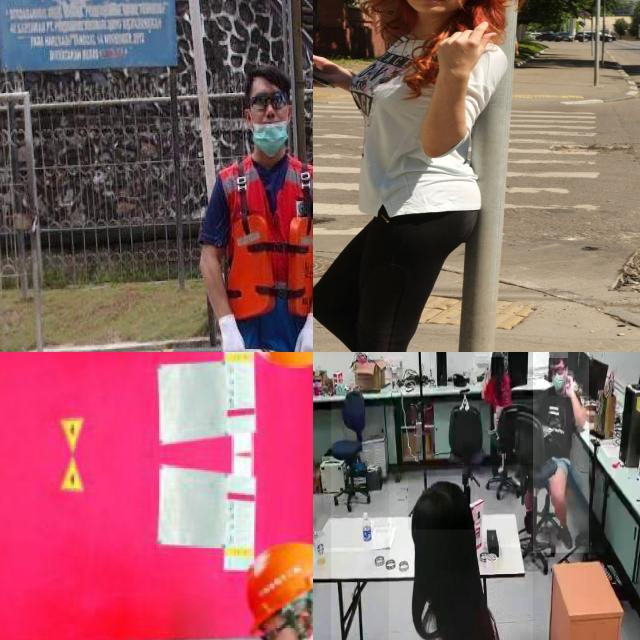No_Ear-Protection: (294, 610, 313, 640)
face_mask: (548, 367, 566, 395)
hand_noglove: (564, 370, 574, 398)
head_helmet: (247, 546, 313, 633)
head_nohelmet: (408, 478, 476, 530), (548, 352, 568, 358), (489, 352, 503, 357)
person: (180, 58, 313, 352), (388, 465, 533, 640), (532, 352, 589, 553)
shoes: (558, 519, 574, 553)
vest: (220, 154, 313, 352)
